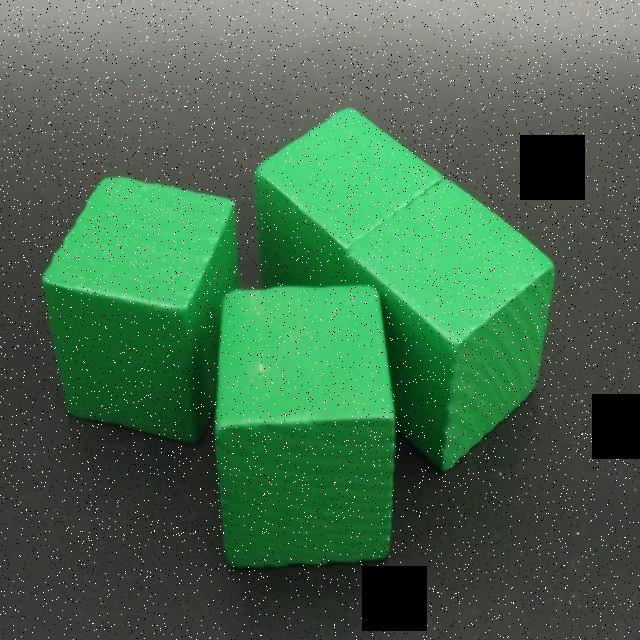green cube: (339, 179, 555, 473), (42, 177, 237, 448), (214, 286, 397, 571), (253, 107, 444, 288)
